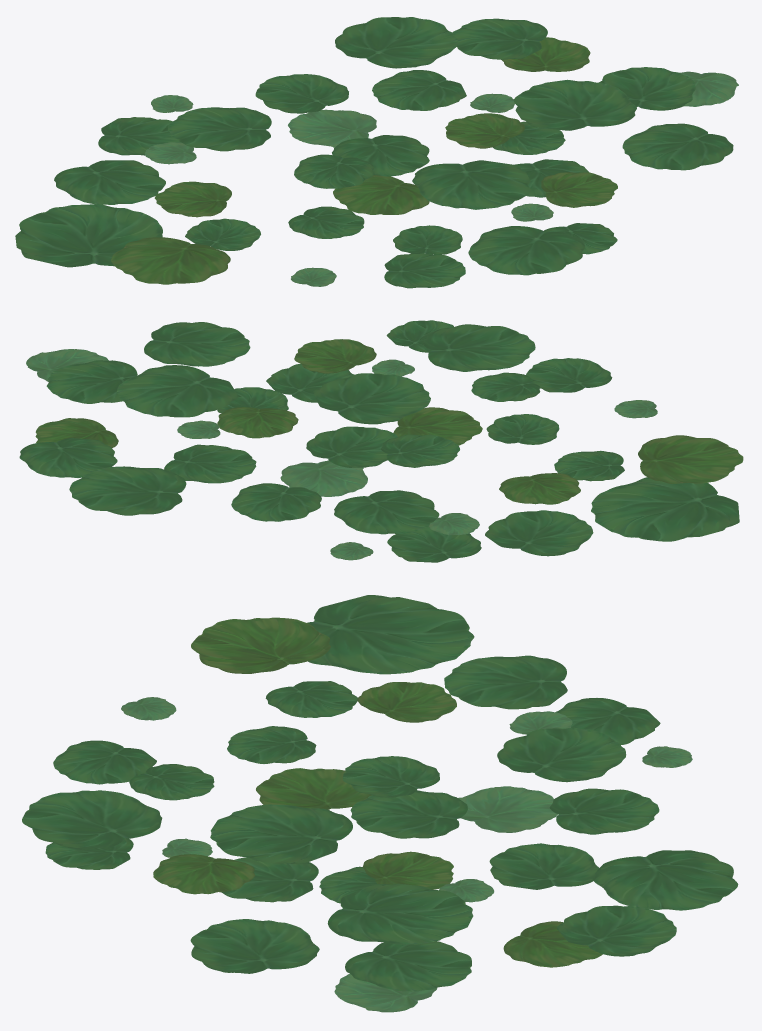
The model's file is SM_EastLands_WaterLily_03.fbx.
3 views of the same model, one above another, from view 1: azimuth 30°, elevation 25°; view 2: azimuth 150°, elevation 25°; view 3: azimuth 270°, elevation 25° (orthographic). The views are drawn at different scales.
Parts seen in each view (by area): view 1: SM_EastLands_WaterLily_03_LOD0; view 2: SM_EastLands_WaterLily_03_LOD0; view 3: SM_EastLands_WaterLily_03_LOD0.
Boxes of the visible parts, x1,y1,x2,y2 form: SM_EastLands_WaterLily_03_LOD0: (15,17,738,288); SM_EastLands_WaterLily_03_LOD0: (19,320,743,562); SM_EastLands_WaterLily_03_LOD0: (22,595,738,1012).
Size of the model in its own units: 289 by 4.38 by 212.
